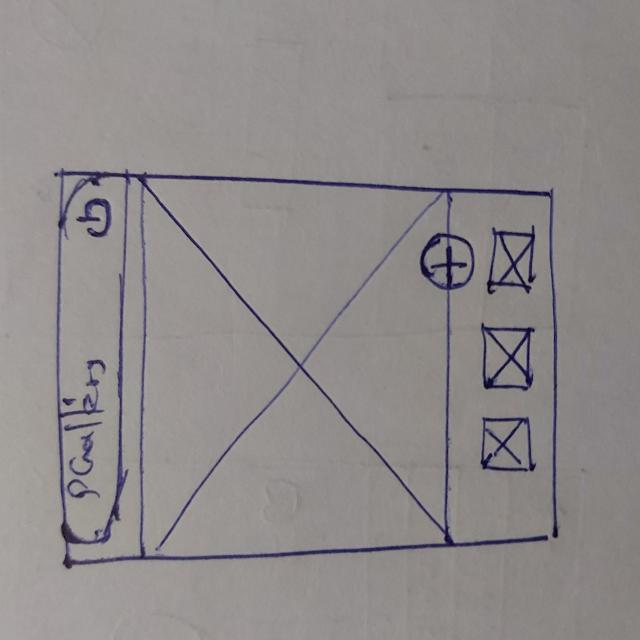AppBar: (55, 170, 134, 566)
Fab: (421, 231, 476, 295)
IconButton: (75, 197, 112, 241)
Image: (141, 176, 449, 555), (480, 323, 534, 394), (485, 228, 540, 295), (481, 414, 536, 475)
MainLayout: (55, 166, 570, 567)
TextView: (62, 358, 104, 504)
